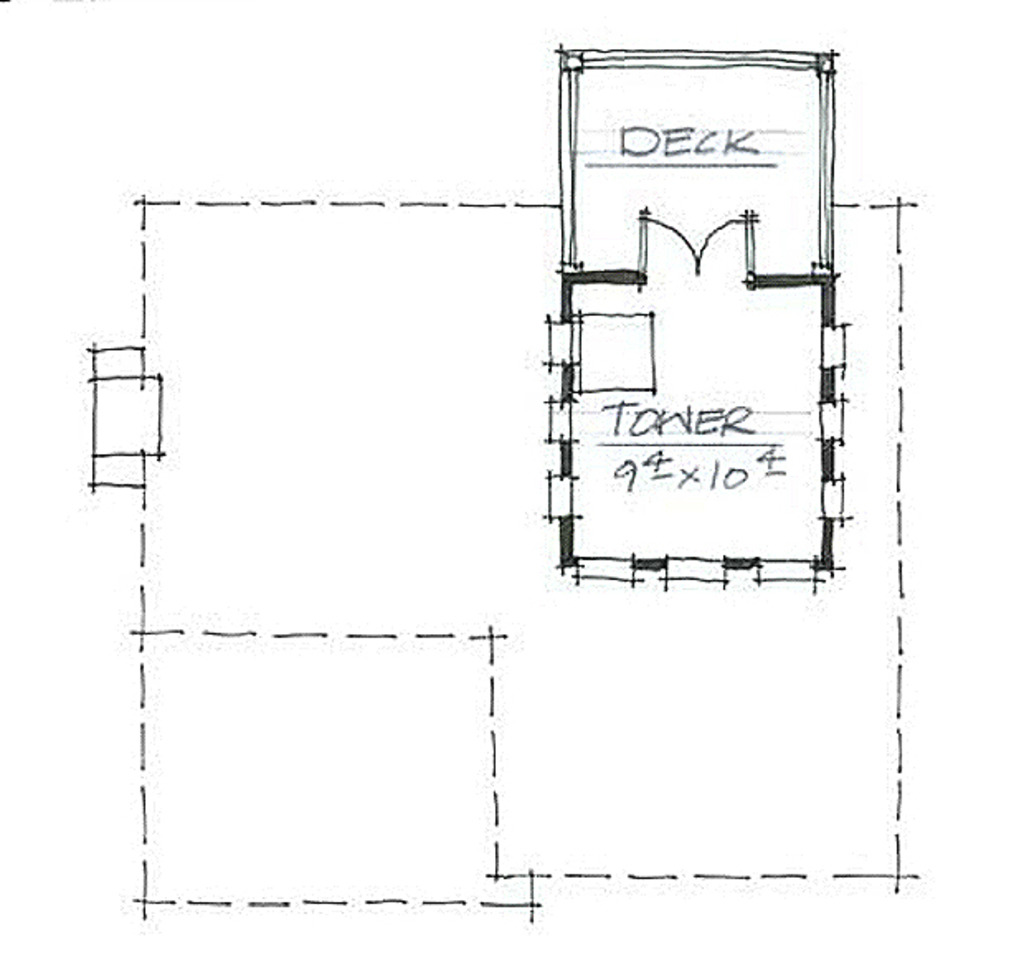door: (632, 217, 756, 284)
